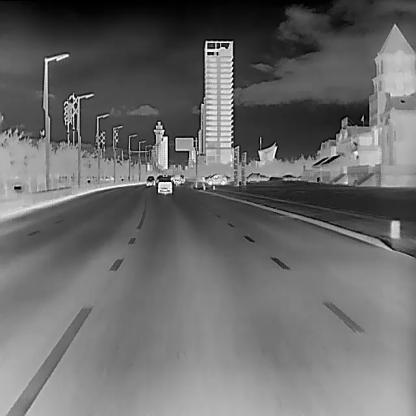car: (205, 173, 230, 186), (157, 176, 172, 194), (282, 173, 298, 181), (146, 175, 155, 186)
